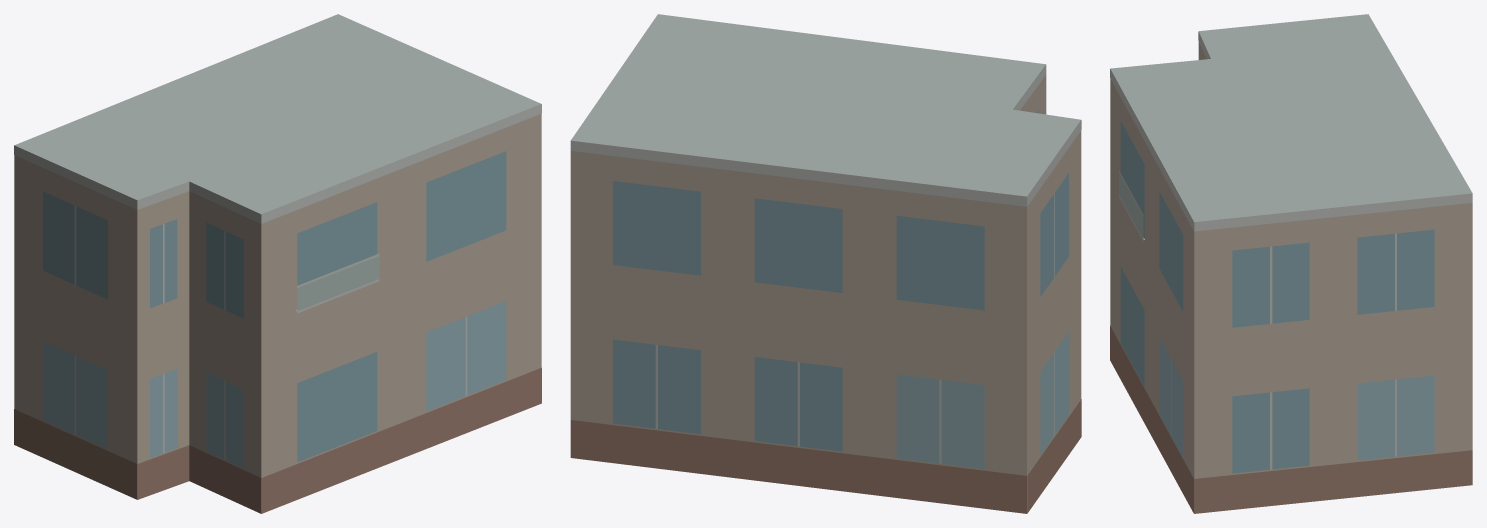
Rendered from survey-upis-32693647.glb.
3 renders of one model, left to right at view 1: azimuth 30°, elevation 25°; view 2: azimuth 150°, elevation 25°; view 3: azimuth 270°, elevation 25°, orthographic. The views are drawn at different scales.
Parts seen in each view (by area): view 1: survey-upis-32693647.tmp; view 2: survey-upis-32693647.tmp; view 3: survey-upis-32693647.tmp.
Boxes of the visible parts, box(x1,y1,x2,y2) form: survey-upis-32693647.tmp: box(14, 14, 541, 513); survey-upis-32693647.tmp: box(570, 14, 1081, 513); survey-upis-32693647.tmp: box(1110, 14, 1472, 513).
Size of the model in its own units: 11.64 by 7.6 by 8.57.
